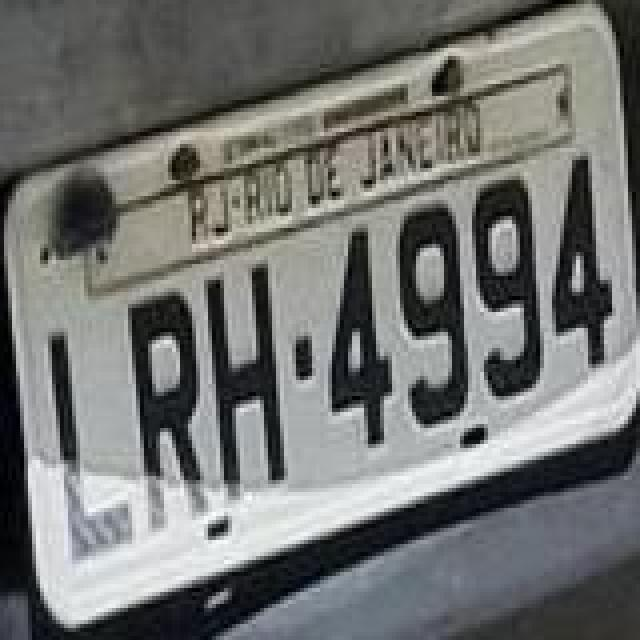4: (324, 224, 396, 448), (550, 152, 618, 376)
9: (394, 200, 470, 432), (470, 172, 546, 404)
H: (204, 258, 292, 502)
L: (44, 330, 132, 566)
R: (124, 292, 212, 540)
